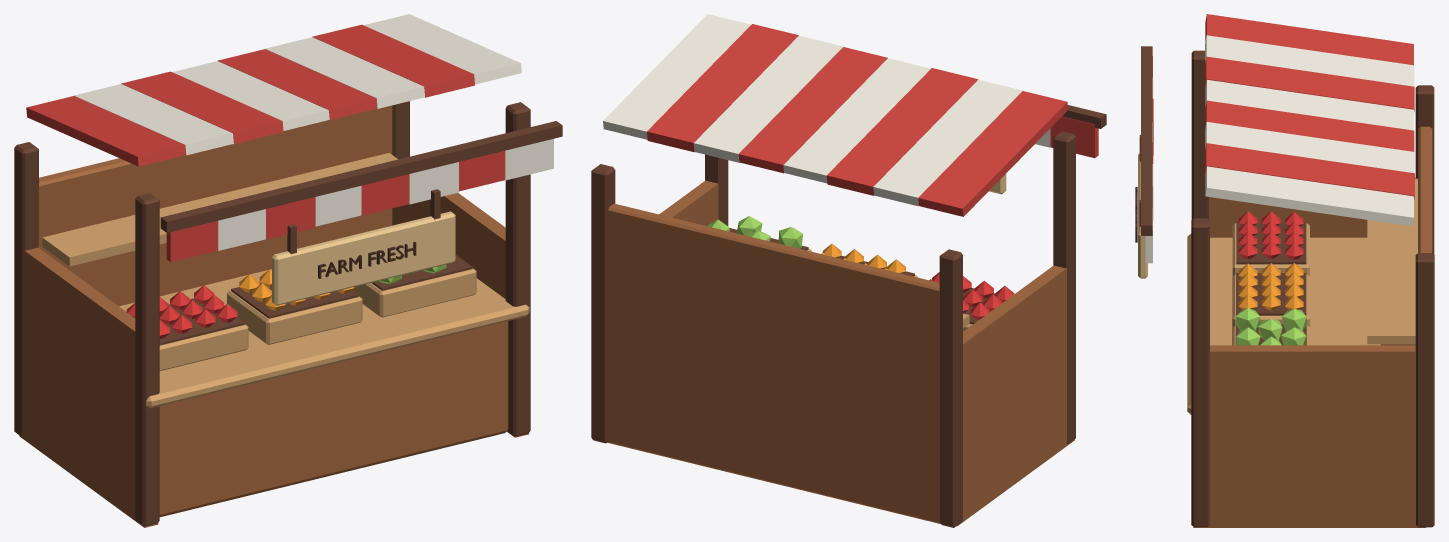
File: Market_Stall.fbx
The picture shows the model from 3 angles, left to right: view 1: azimuth 30°, elevation 25°; view 2: azimuth 150°, elevation 25°; view 3: azimuth 270°, elevation 25°; orthographic projection. The views are drawn at different scales.
Parts seen in each view (by area): view 1: Market_Stall; view 2: Market_Stall; view 3: Market_Stall.
Part boxes in pixels (x1,y1,x2,y2): Market_Stall: [14, 14, 562, 527]; Market_Stall: [591, 14, 1106, 527]; Market_Stall: [1135, 14, 1434, 527].
Bounding box in the file's own units: 3.31 × 2.93 × 2.33.
